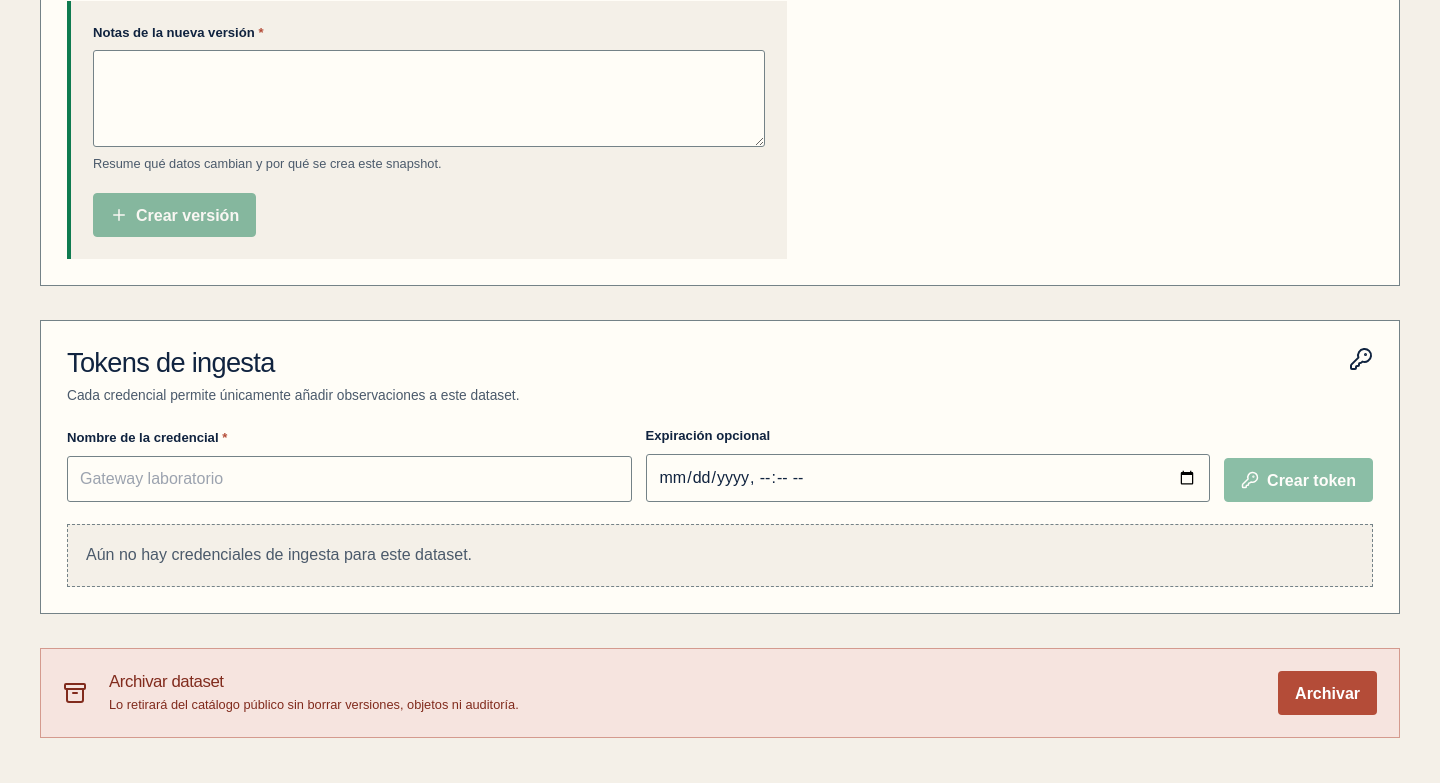
Scenario: vistas de gestión › presenta un error de operación sin ocultarlo con datos demo
The width and height of the screenshot is (1440, 783).
(page scrolled)
Type "Gateway" into the field labelled "Nombre de la credencial *". click: (349, 479)
box: [67,456,632,502]
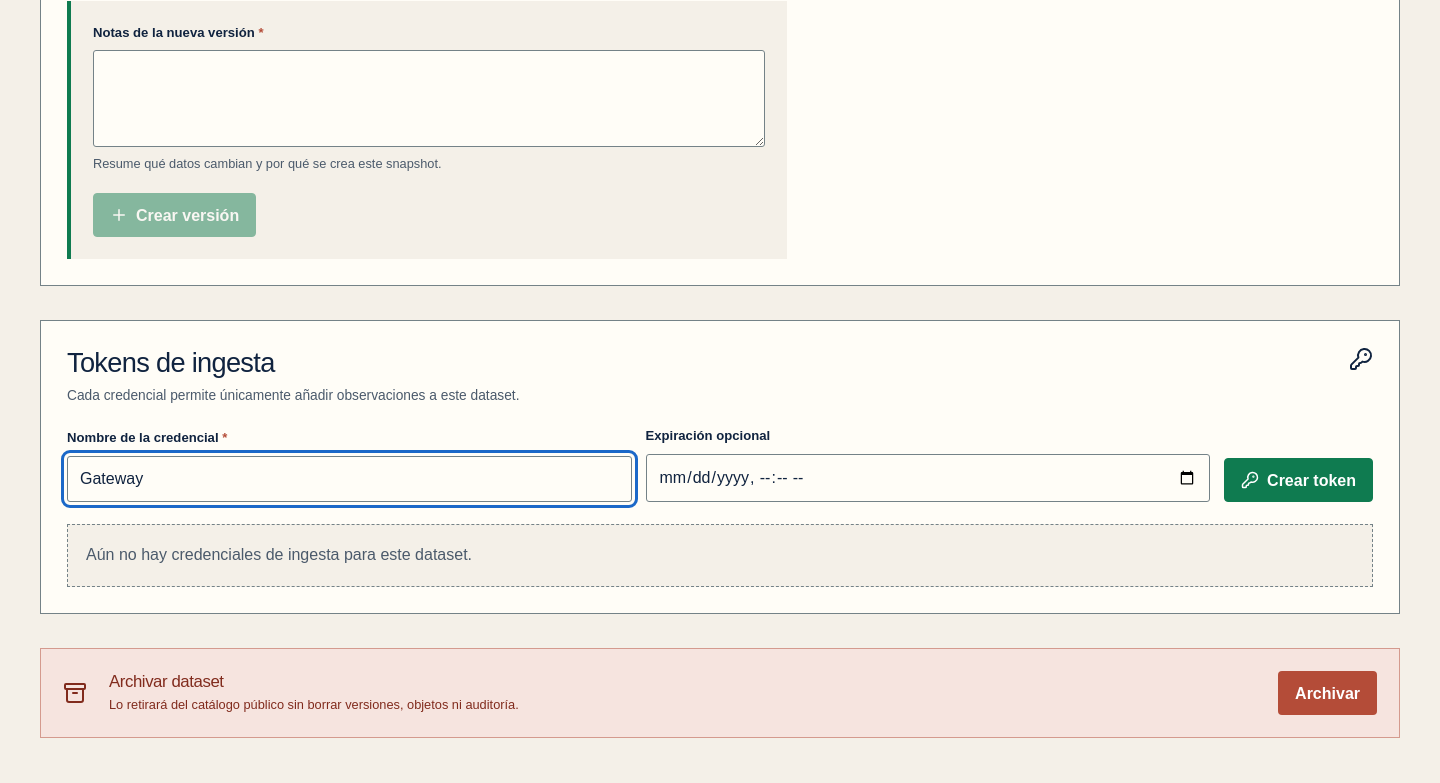
Click the button "Crear token". click: (1299, 480)
box: [1224,458,1373,502]
(page scrolled)
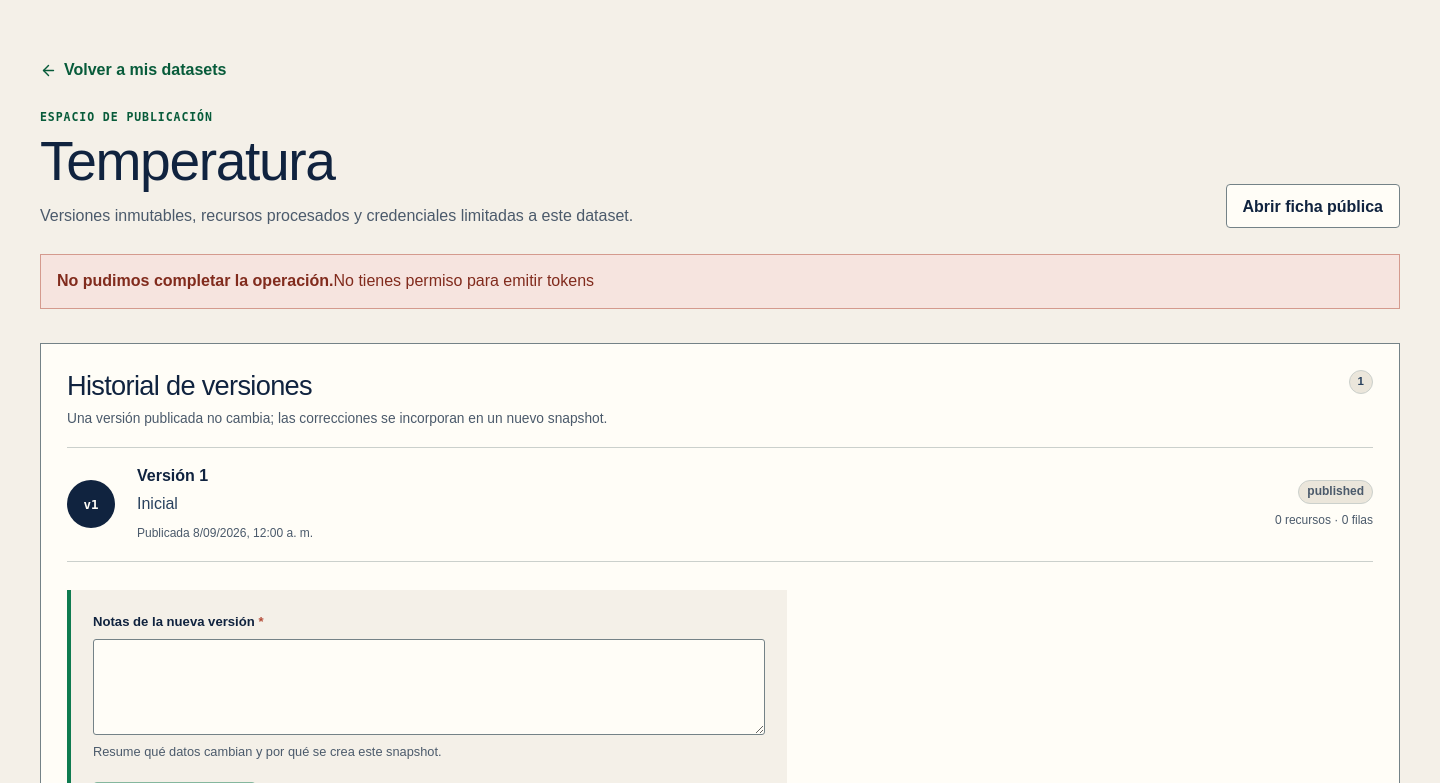
Check: the message shows "No tienes permiso para emitir tokens", box [334,272,594,289]
